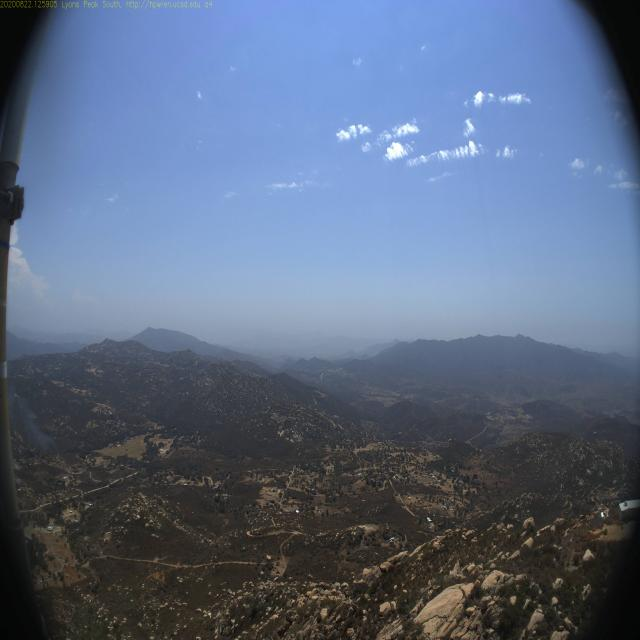smoke: (10, 387, 60, 455)
